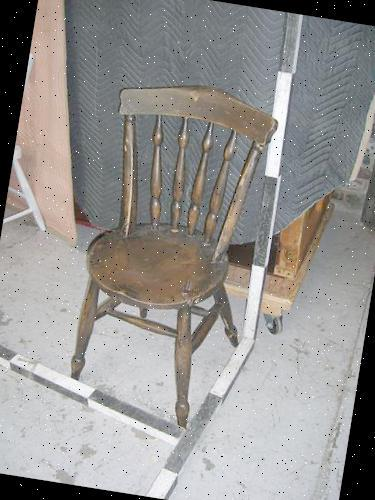Silla: (59, 72, 278, 438)
